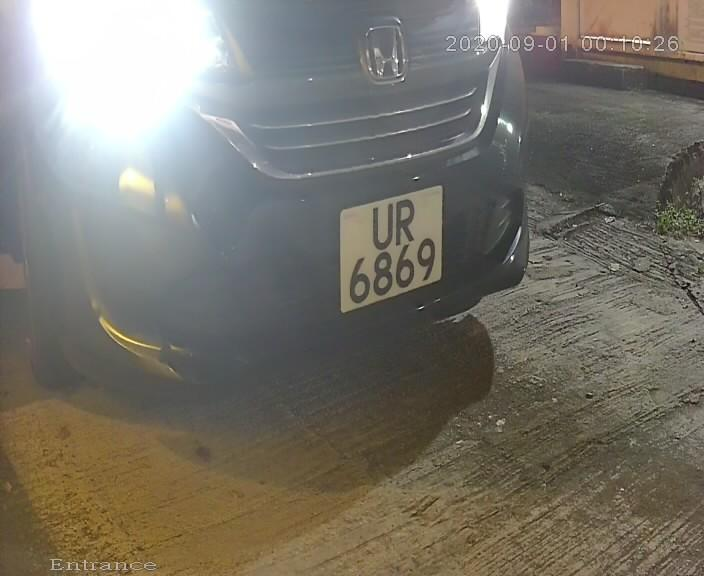License Plate: (334, 175, 450, 325)
